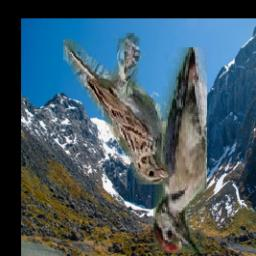Sparrow: (64, 34, 173, 185)
Woodpecker: (153, 48, 207, 254)
